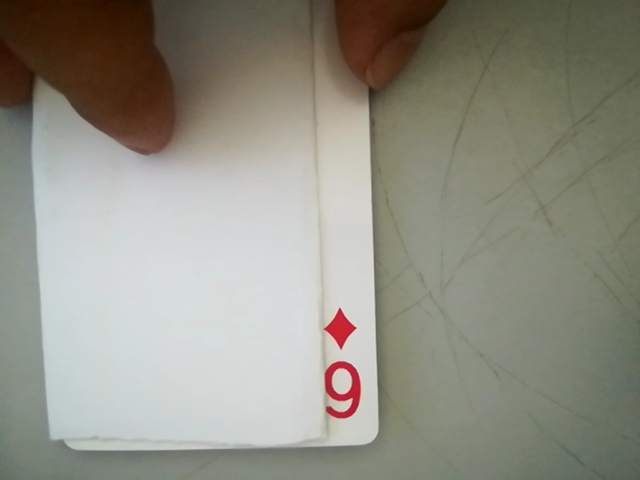fk 6: (311, 304, 374, 434)
